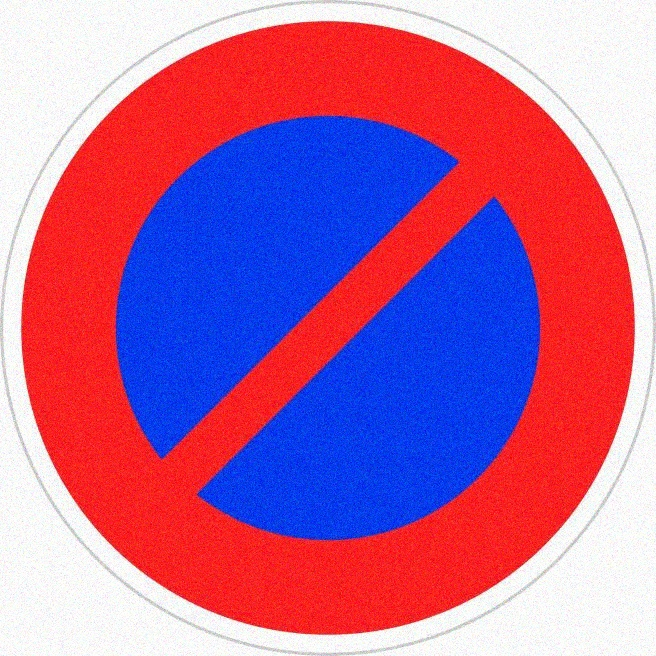Prohibition_sign: (6, 5, 652, 656)
